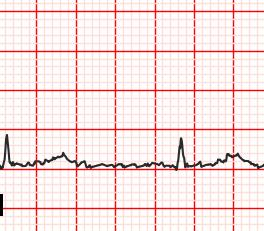Poor R Progression: (0, 132, 15, 173), (173, 135, 190, 171)
